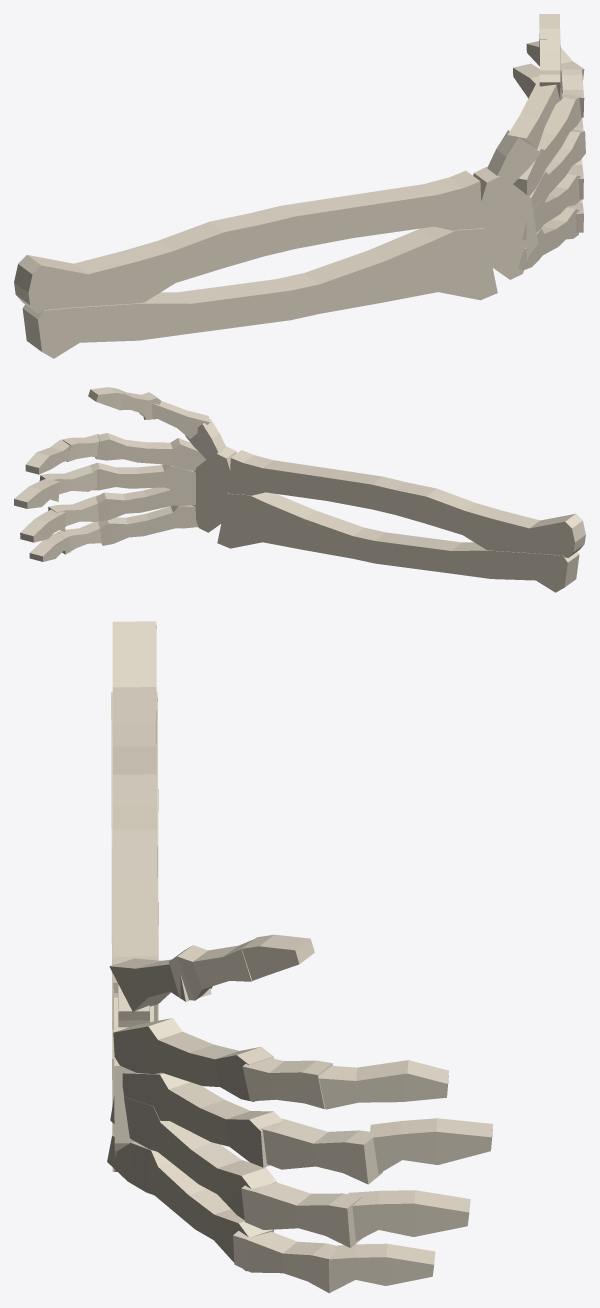
The model's file is RightHandClaw.fbx.
3 renders of one model, top to bottom at view 1: azimuth 30°, elevation 25°; view 2: azimuth 150°, elevation 25°; view 3: azimuth 270°, elevation 25°, orthographic. The views are drawn at different scales.
Visible parts, largest first — view 1: RightArm; view 2: RightArm; view 3: RightArm.
Boxes of the visible parts, bbox=[...] form: RightArm: bbox=[14, 14, 585, 358]; RightArm: bbox=[14, 387, 585, 592]; RightArm: bbox=[107, 621, 492, 1293].
Size of the model in its own units: 78.93 by 24.89 by 27.26.
